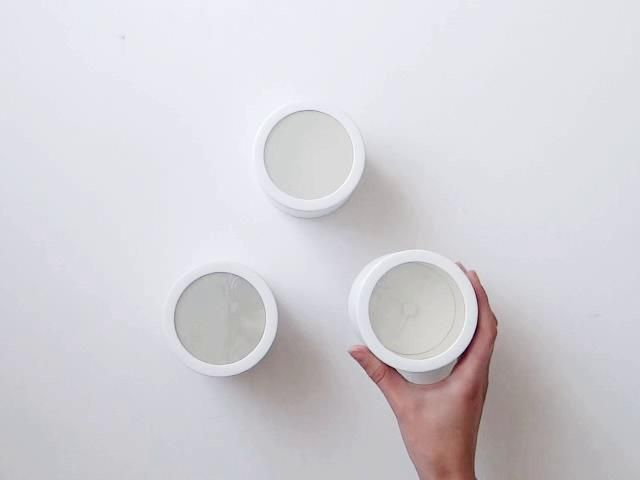not a gesture sign: (349, 250, 478, 383), (254, 105, 363, 217)
